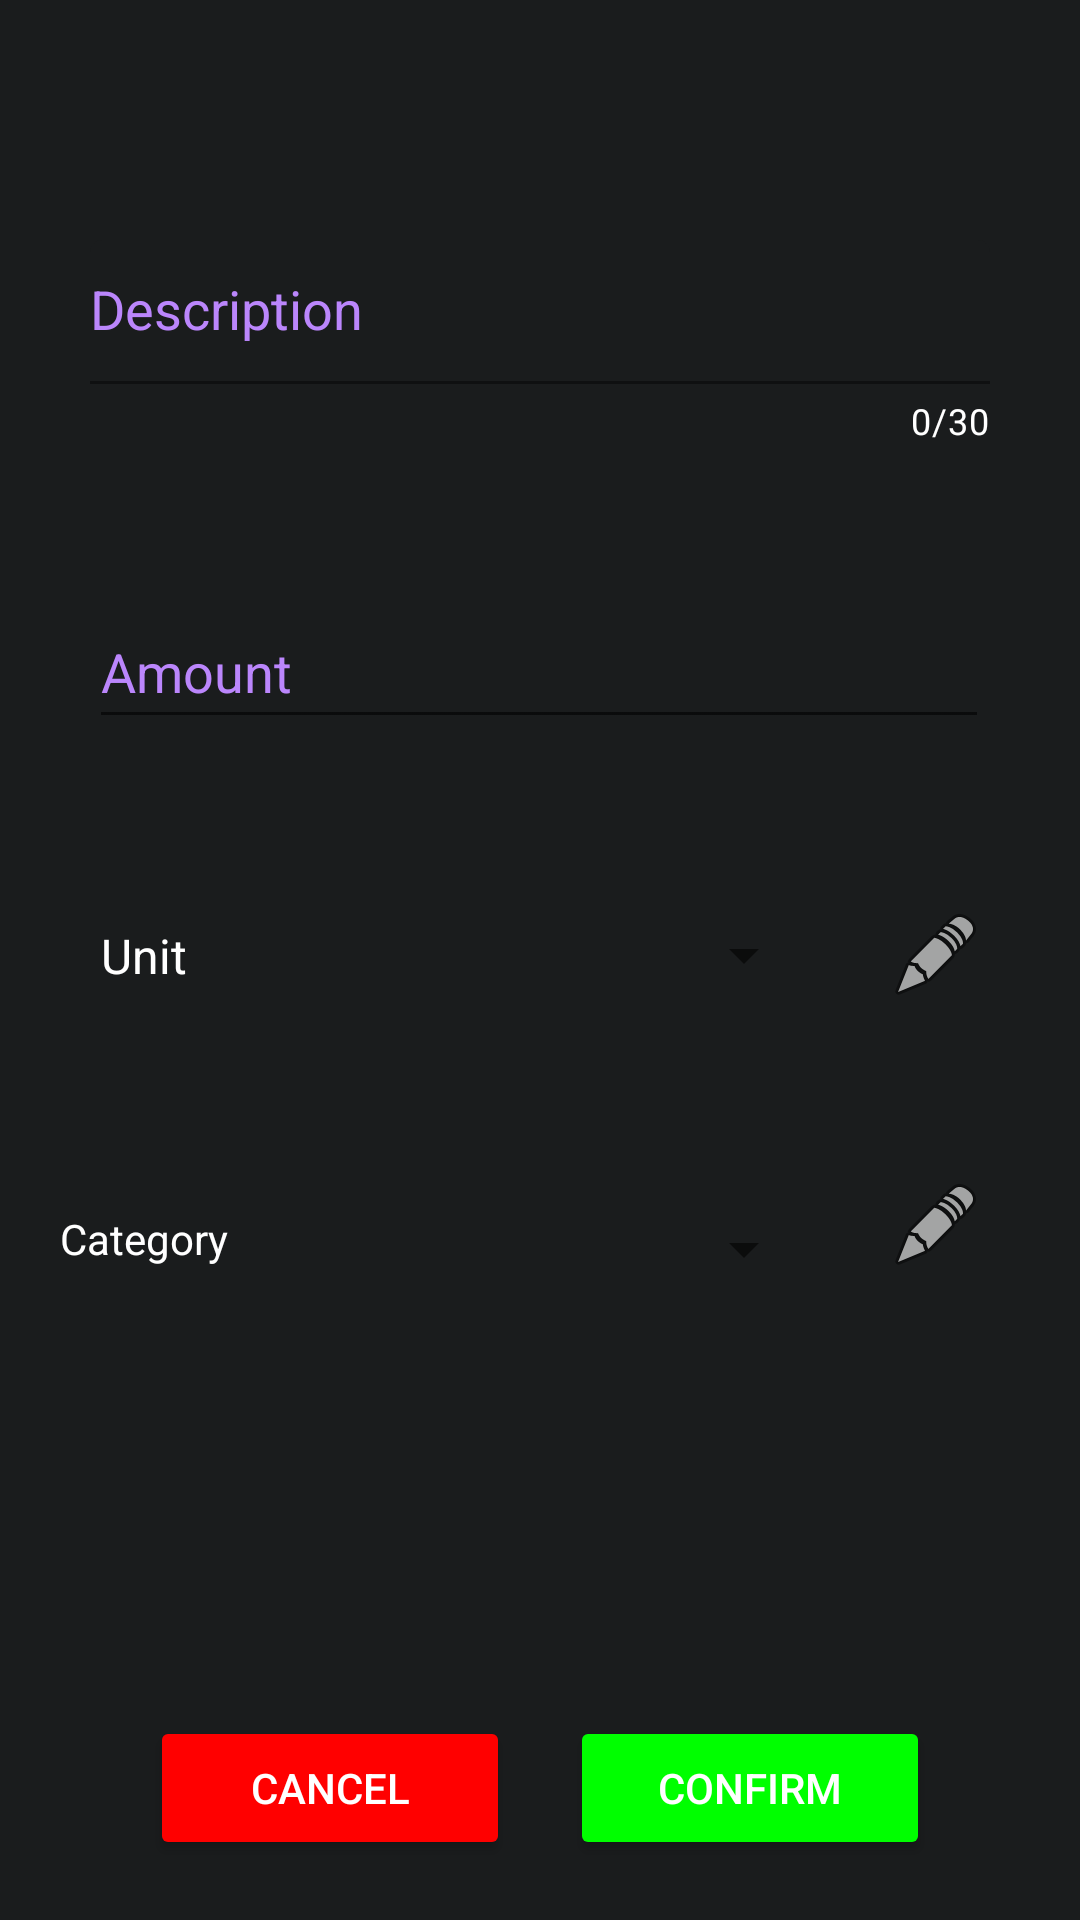

Where to tap for icons on this 1080 × 1920 app screen, as point (x, y):
edit: point (935, 954), point (935, 1224)
